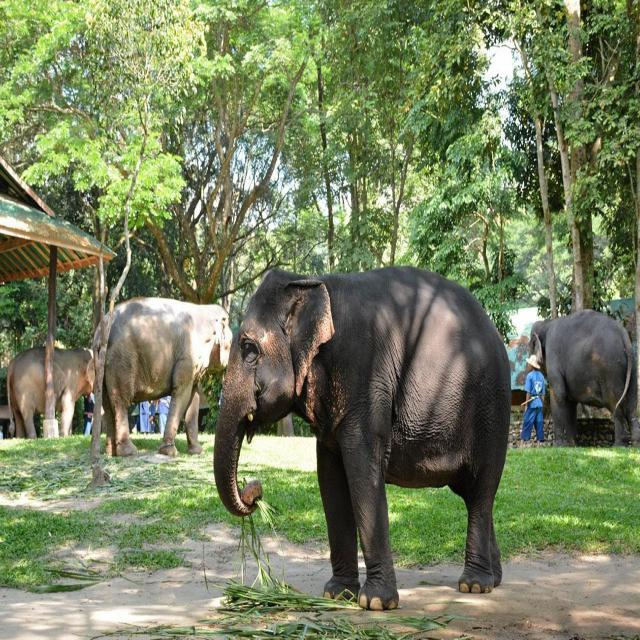Elephant: (222, 252, 519, 635), (80, 270, 232, 473), (525, 293, 640, 476), (5, 324, 106, 460)
